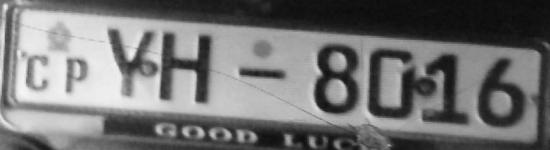-: (233, 66, 291, 84)
0: (366, 44, 422, 125)
1: (425, 47, 476, 130)
6: (478, 52, 530, 134)
8: (307, 38, 367, 118)
C: (25, 54, 54, 93)
P: (61, 54, 93, 95)
Y: (153, 29, 226, 108), (103, 24, 155, 101)
